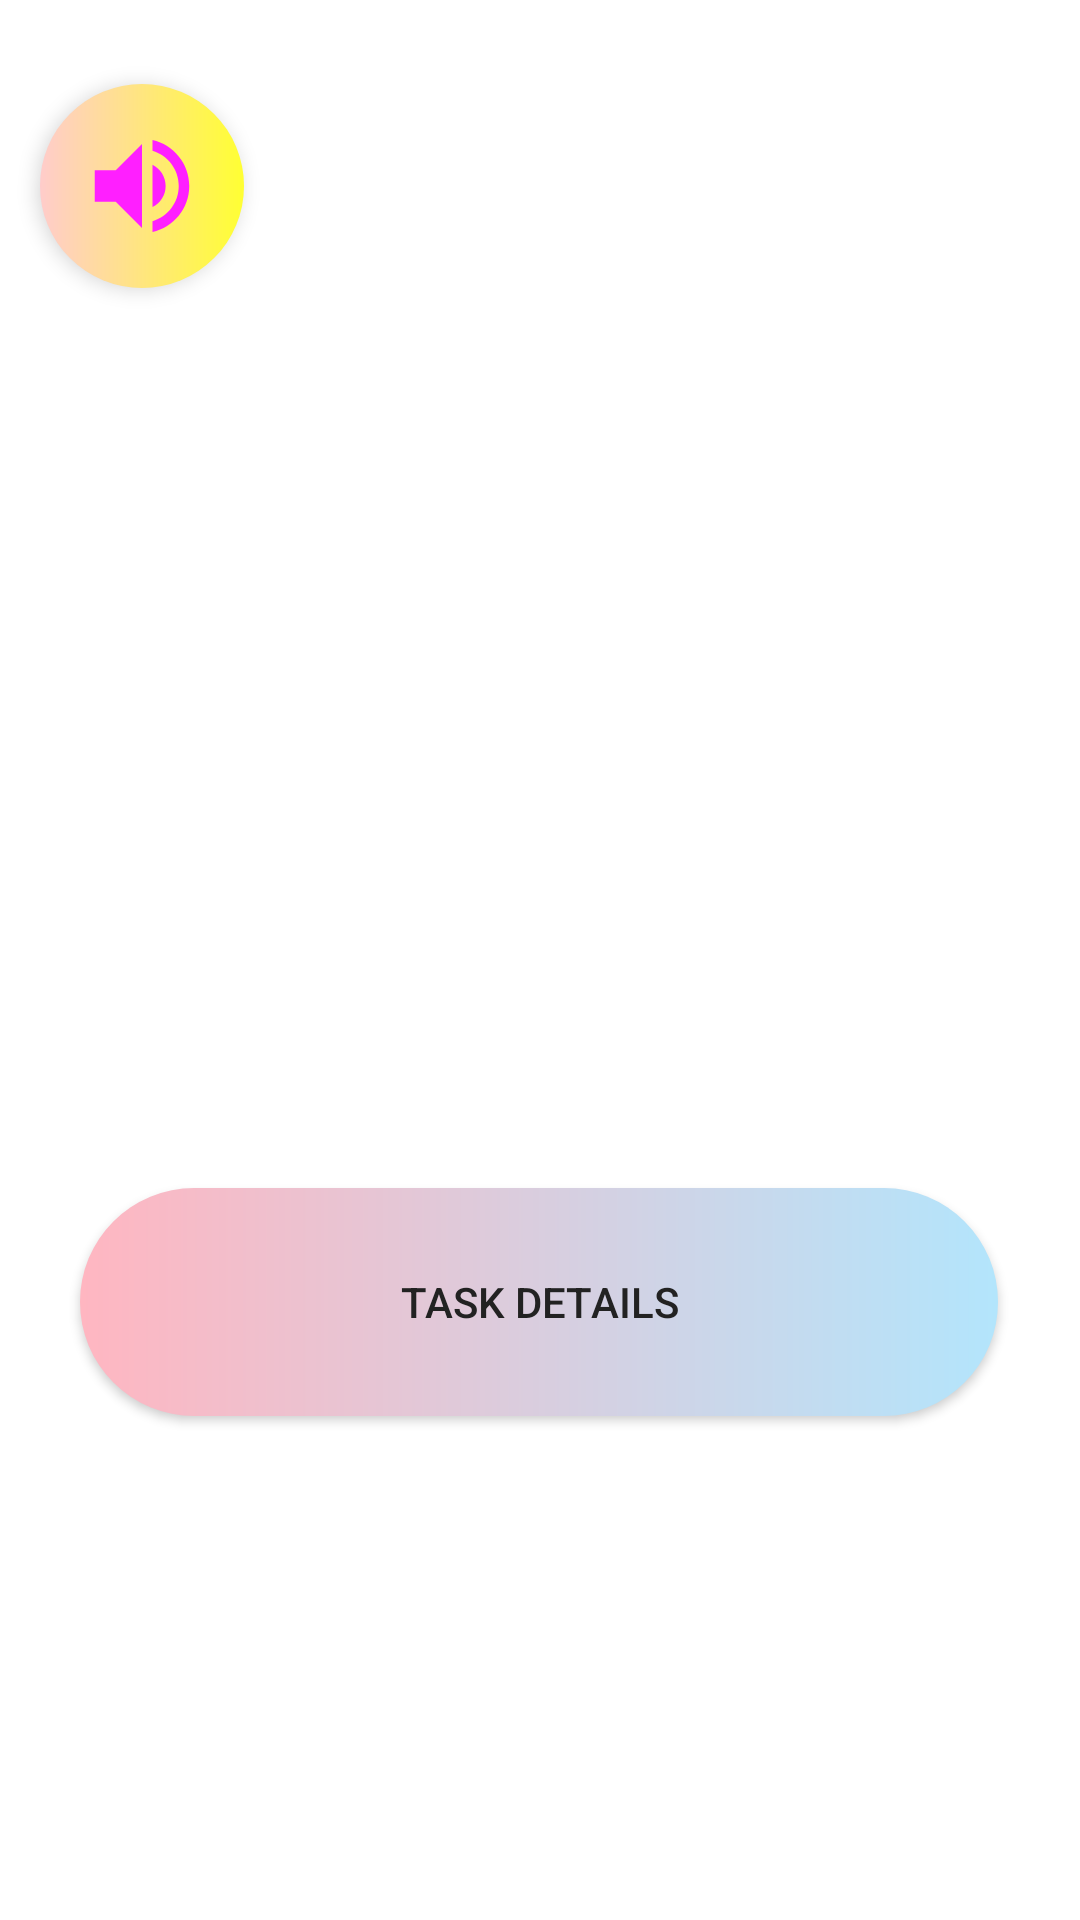

Where to tap for icons on this 1080px x 1920px app screen, as (x,y):
volume on: (142,186)
